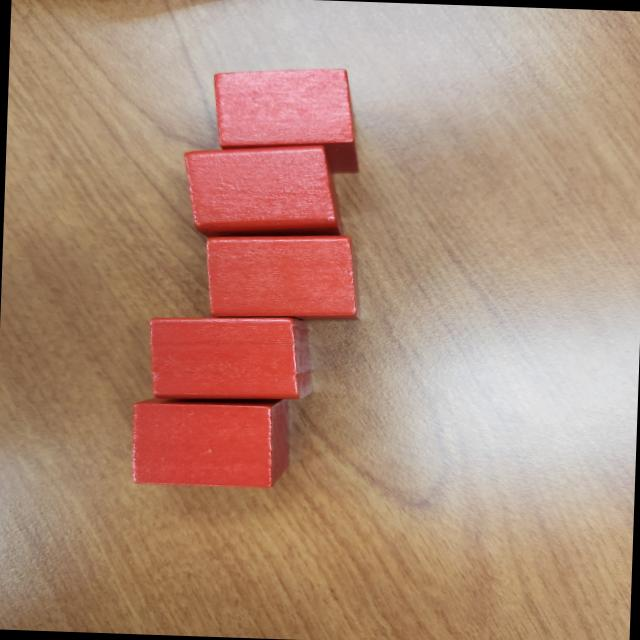red: (182, 138, 346, 242), (210, 64, 362, 170), (128, 394, 294, 491), (146, 311, 308, 404), (204, 230, 362, 322)
